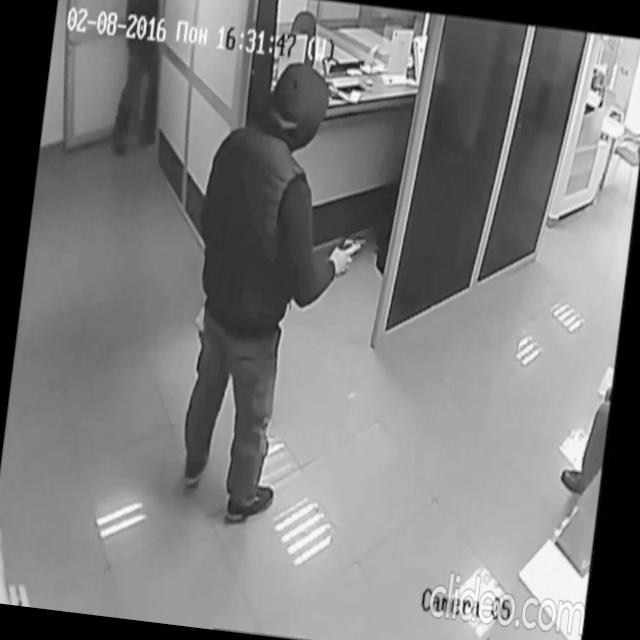gun: (338, 234, 368, 259)
person with a gun: (164, 48, 389, 536)
